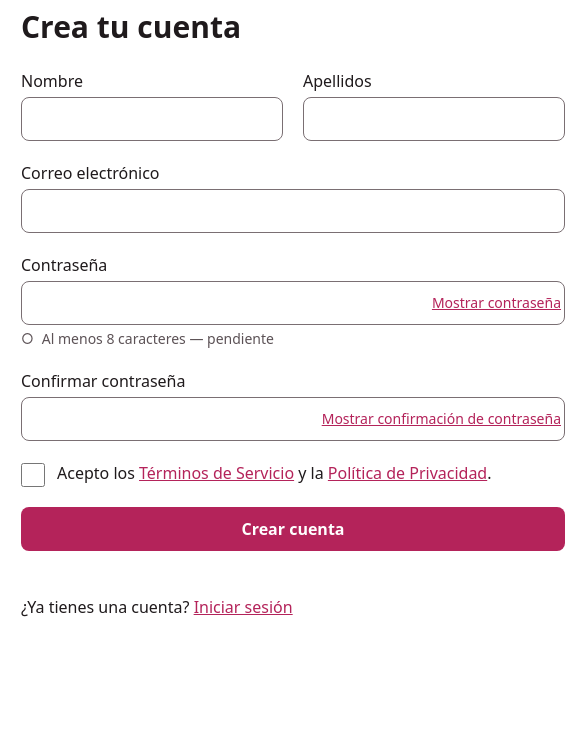
it: RegisterPage › BDD 6 — required fields left empty › shows a specific error for each empty field, focuses the first one and sends nothing
Click the button "Crear cuenta" at (293, 529), box [21,507,565,551]
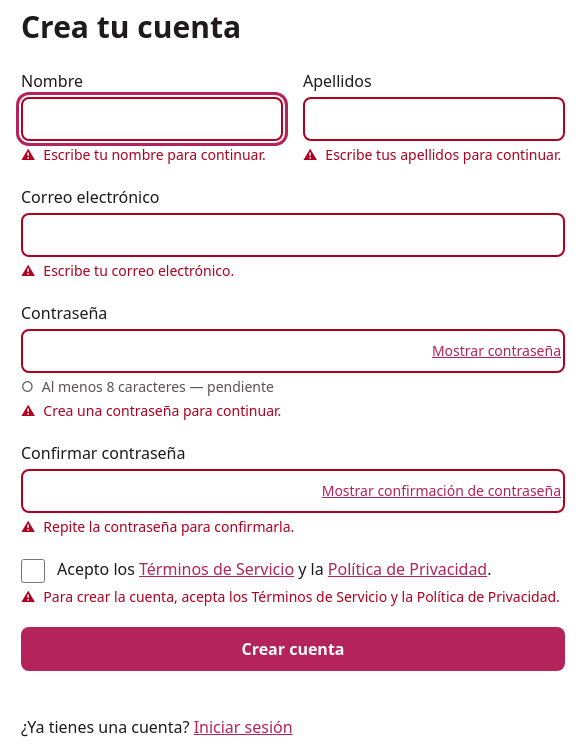
Expected: the text "Escribe tu nombre para continuar." is shown, [43,145,266,165]
Expected: the text "Escribe tus apellidos para continuar." is shown, [325,145,561,165]
Expected: the text "Escribe tu correo electrónico." is shown, [43,261,234,281]
